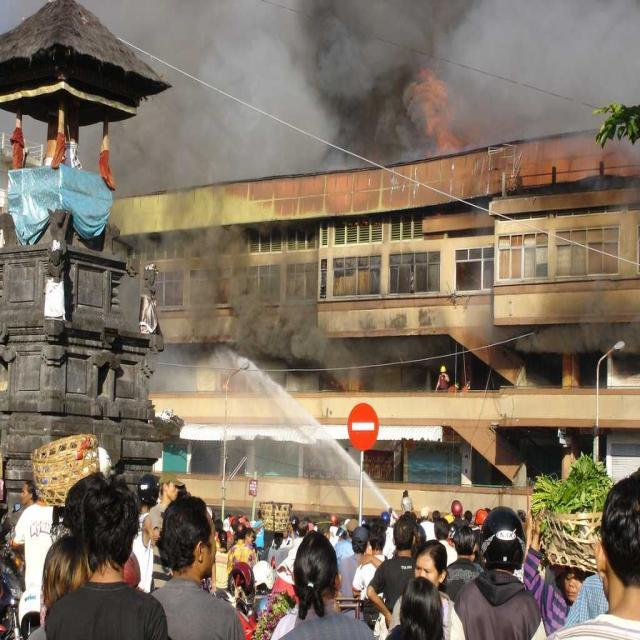Fire: (425, 105, 469, 160)
Smoke: (178, 17, 416, 146), (480, 3, 605, 108), (230, 298, 331, 362)
